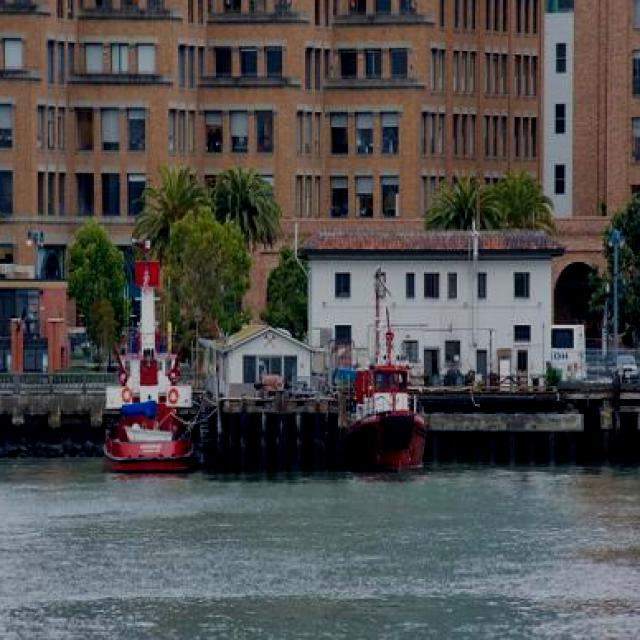ship: (102, 238, 196, 475), (344, 302, 430, 472)
